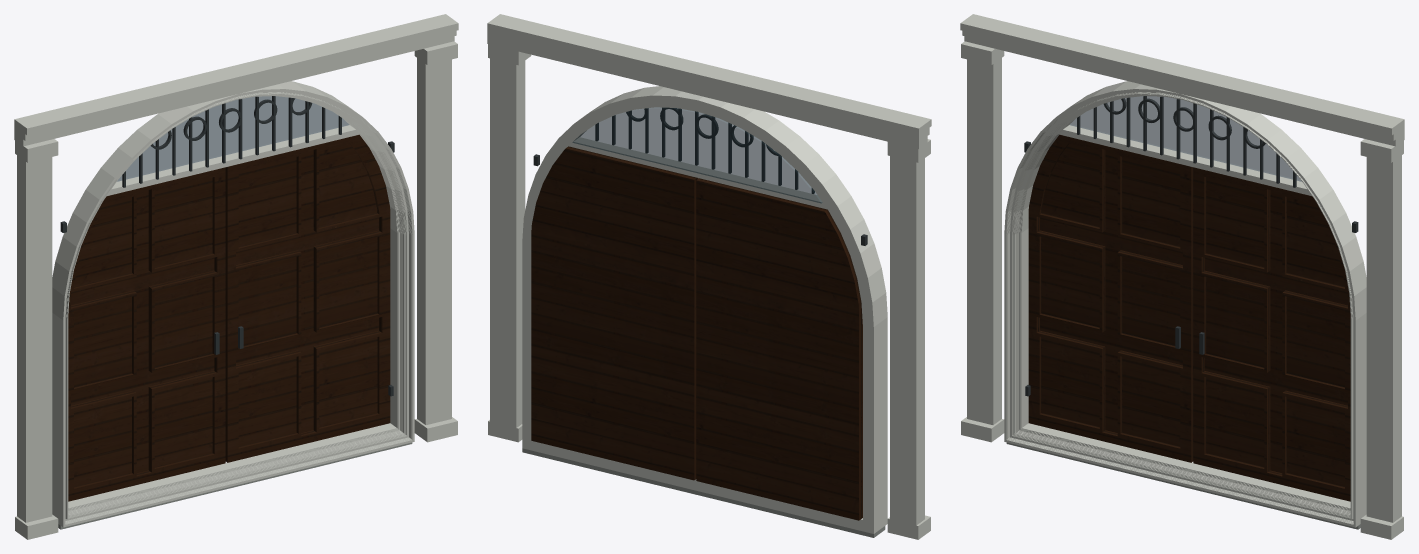
Rendered from republicano_arch_porton.glb.
3 views of the same model, side by side, from view 1: azimuth 30°, elevation 25°; view 2: azimuth 150°, elevation 25°; view 3: azimuth 330°, elevation 25° (orthographic).
Parts seen in each view (by area): view 1: door_pilaster#0001, door_pilaster#0002, door_portal_cornice#0003, door_leaf_frame#0002, door_panel_back#0001, door_panel_back#0002, transom_glass#0001, door_moulding#0028, door_reveal#0001, door_leaf_frame#0001, door_coffer#0005, door_coffer#0011 (+55 smaller); view 2: door_panel_back#0001, door_panel_back#0002, door_reveal#0001, door_pilaster#0001, door_pilaster#0002, transom_glass#0001, door_leaf_frame#0001, door_leaf_frame#0002, door_portal_cornice#0003, door_moulding#0028, door_portal_cornice#0002, door_portal_cornice#0001 (+3 smaller); view 3: door_pilaster#0002, door_pilaster#0001, door_portal_cornice#0003, door_leaf_frame#0001, door_panel_back#0002, door_panel_back#0001, transom_glass#0001, door_moulding#0028, door_reveal#0001, door_leaf_frame#0002, door_coffer#0008, door_coffer#0002 (+55 smaller).
Boxes of the visible parts, x1,y1,x2,y2 form: door_pilaster#0001: [17, 155, 52, 522]; door_pilaster#0002: [417, 58, 451, 424]; door_portal_cornice#0003: [14, 14, 458, 135]; door_leaf_frame#0002: [225, 134, 390, 462]; door_panel_back#0001: [71, 190, 214, 472]; door_panel_back#0002: [236, 150, 378, 432]; transom_glass#0001: [117, 96, 349, 181]; door_moulding#0028: [54, 83, 414, 527]; door_reveal#0001: [52, 81, 395, 515]; door_leaf_frame#0001: [68, 167, 225, 501]; door_coffer#0005: [148, 270, 214, 371]; door_coffer#0011: [313, 230, 379, 331]; door_panel_back#0001: [704, 191, 850, 509]; door_panel_back#0002: [539, 158, 685, 469]; door_reveal#0001: [522, 91, 879, 533]; door_pilaster#0001: [890, 142, 924, 539]; door_pilaster#0002: [490, 44, 525, 441]; transom_glass#0001: [572, 107, 822, 203]; door_leaf_frame#0001: [696, 178, 862, 520]; door_leaf_frame#0002: [531, 146, 698, 480]; door_portal_cornice#0003: [487, 14, 931, 135]; door_moulding#0028: [584, 86, 887, 529]; door_portal_cornice#0002: [487, 30, 929, 142]; door_portal_cornice#0001: [487, 37, 927, 148]; door_pilaster#0002: [1366, 155, 1401, 522]; door_pilaster#0001: [967, 58, 1001, 424]; door_portal_cornice#0003: [960, 14, 1404, 135]; door_leaf_frame#0001: [1028, 134, 1193, 462]; door_panel_back#0002: [1204, 190, 1347, 472]; door_panel_back#0001: [1040, 150, 1182, 432]; transom_glass#0001: [1069, 96, 1301, 181]; door_moulding#0028: [1004, 83, 1363, 527]; door_reveal#0001: [1023, 81, 1366, 516]; door_leaf_frame#0002: [1193, 167, 1350, 501]; door_coffer#0008: [1204, 270, 1270, 371]; door_coffer#0002: [1039, 230, 1105, 331].
Bounding box in the file's own units: 3.93 × 3.62 × 0.325.
6 materials, 1 textured.
